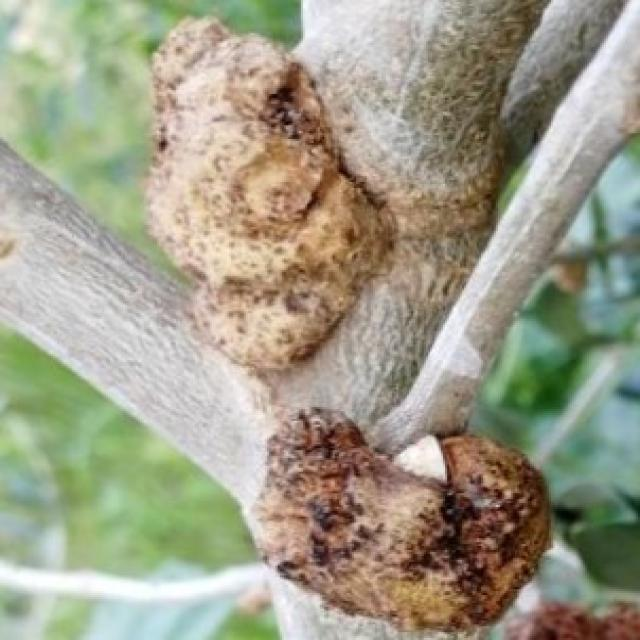Tuberculosis: (150, 20, 390, 372), (256, 407, 549, 628)
